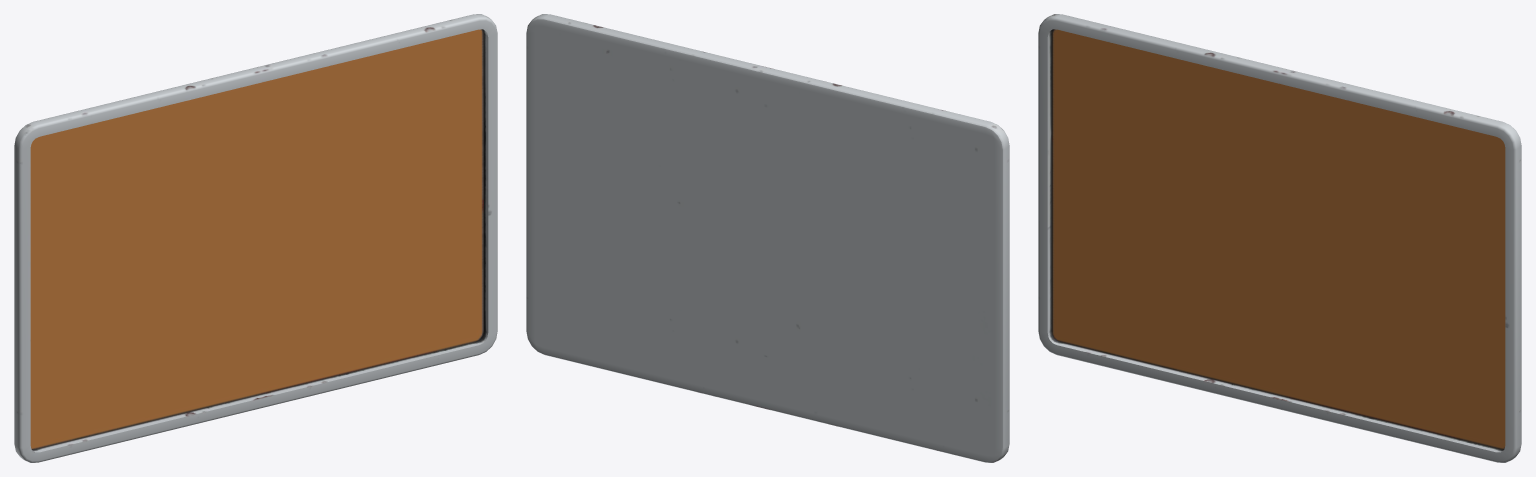
File: Instruction Board.fbx
The picture shows the model from 3 angles, left to right: view 1: azimuth 30°, elevation 25°; view 2: azimuth 150°, elevation 25°; view 3: azimuth 330°, elevation 25°; orthographic projection.
Parts seen in each view (by area): view 1: Safety Board; view 2: Safety Board; view 3: Safety Board.
Part boxes in pixels (x1,y1,x2,y2): Safety Board: (14, 14, 497, 462); Safety Board: (526, 14, 1009, 462); Safety Board: (1038, 14, 1521, 462).
Bounding box in the file's own units: 16312 × 10997 × 397.
